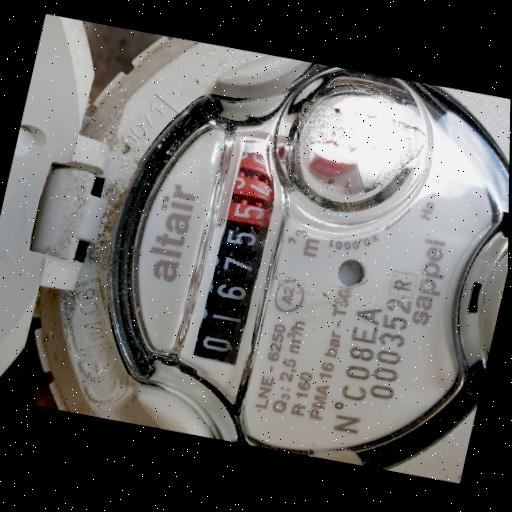0: (194, 327, 242, 358), (240, 143, 274, 168)
1: (202, 305, 248, 330)
4: (231, 173, 278, 202)
5: (219, 225, 268, 252), (227, 199, 274, 227)
6: (207, 278, 253, 305)
7: (214, 252, 261, 279)
border_water_meter_number: (169, 78, 313, 409)
